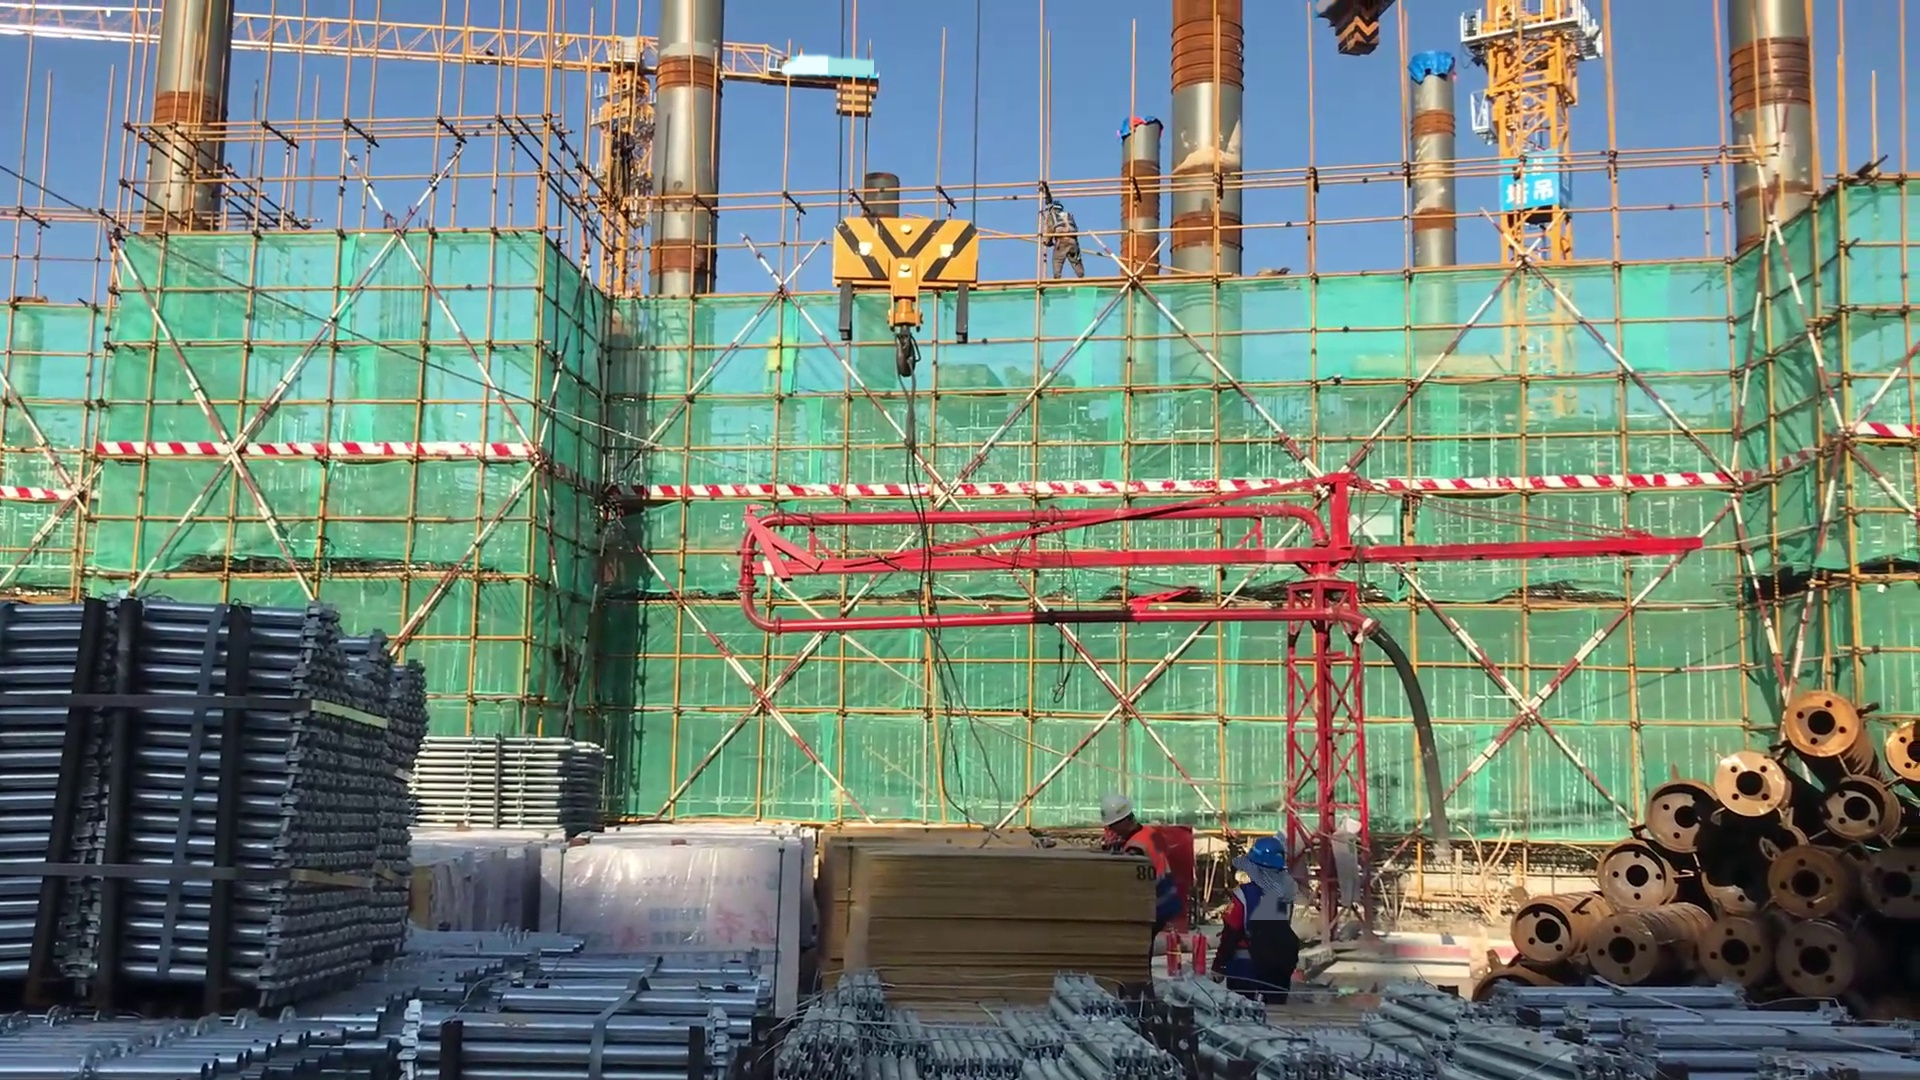board: (816, 824, 1150, 1002)
helmet: (1093, 786, 1143, 838), (1245, 831, 1287, 881)
hook: (809, 178, 995, 407)
person: (1079, 785, 1188, 984), (1211, 829, 1303, 1017), (1028, 171, 1081, 301)
scaffold: (1, 589, 448, 994), (1, 926, 562, 1073), (423, 937, 795, 1080), (800, 967, 1185, 1080), (1172, 970, 1529, 1077), (1506, 987, 1879, 1080), (411, 735, 622, 830)
slogan: (1502, 156, 1570, 223)
vest: (1225, 874, 1296, 998), (1120, 822, 1186, 925), (1048, 210, 1082, 249)
